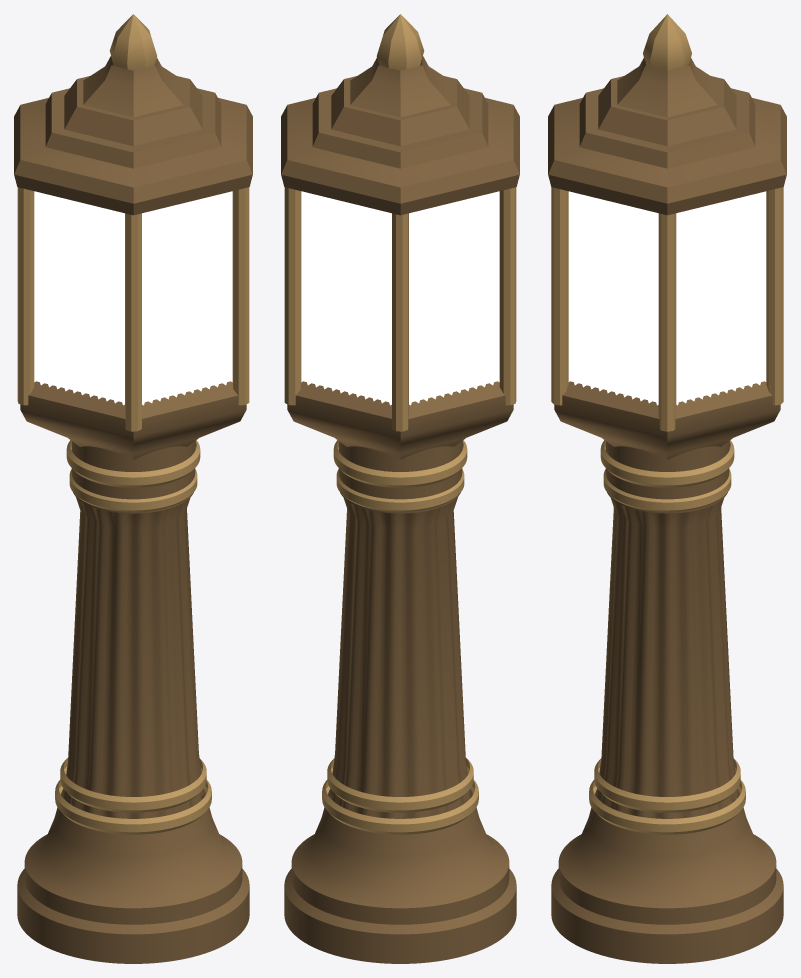
Rendered from LanternLOD0.fbx.
3 renders of one model, left to right at view 1: azimuth 30°, elevation 25°; view 2: azimuth 150°, elevation 25°; view 3: azimuth 270°, elevation 25°, orthographic.
Visible parts, largest first — view 1: Lantern; view 2: Lantern; view 3: Lantern.
Part boxes in pixels (box(x1,y1,x2,y2)): Lantern: box(14, 14, 252, 963); Lantern: box(281, 14, 519, 963); Lantern: box(548, 14, 786, 963).
Size of the model in its own units: 38 by 137 by 32.91.
